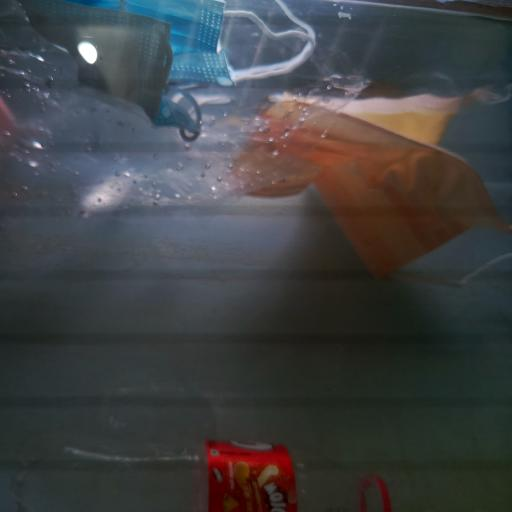mask: (225, 94, 512, 287), (17, 0, 317, 149)
plastic_bag: (2, 2, 363, 214)
plastic_bottle: (36, 446, 405, 512)
